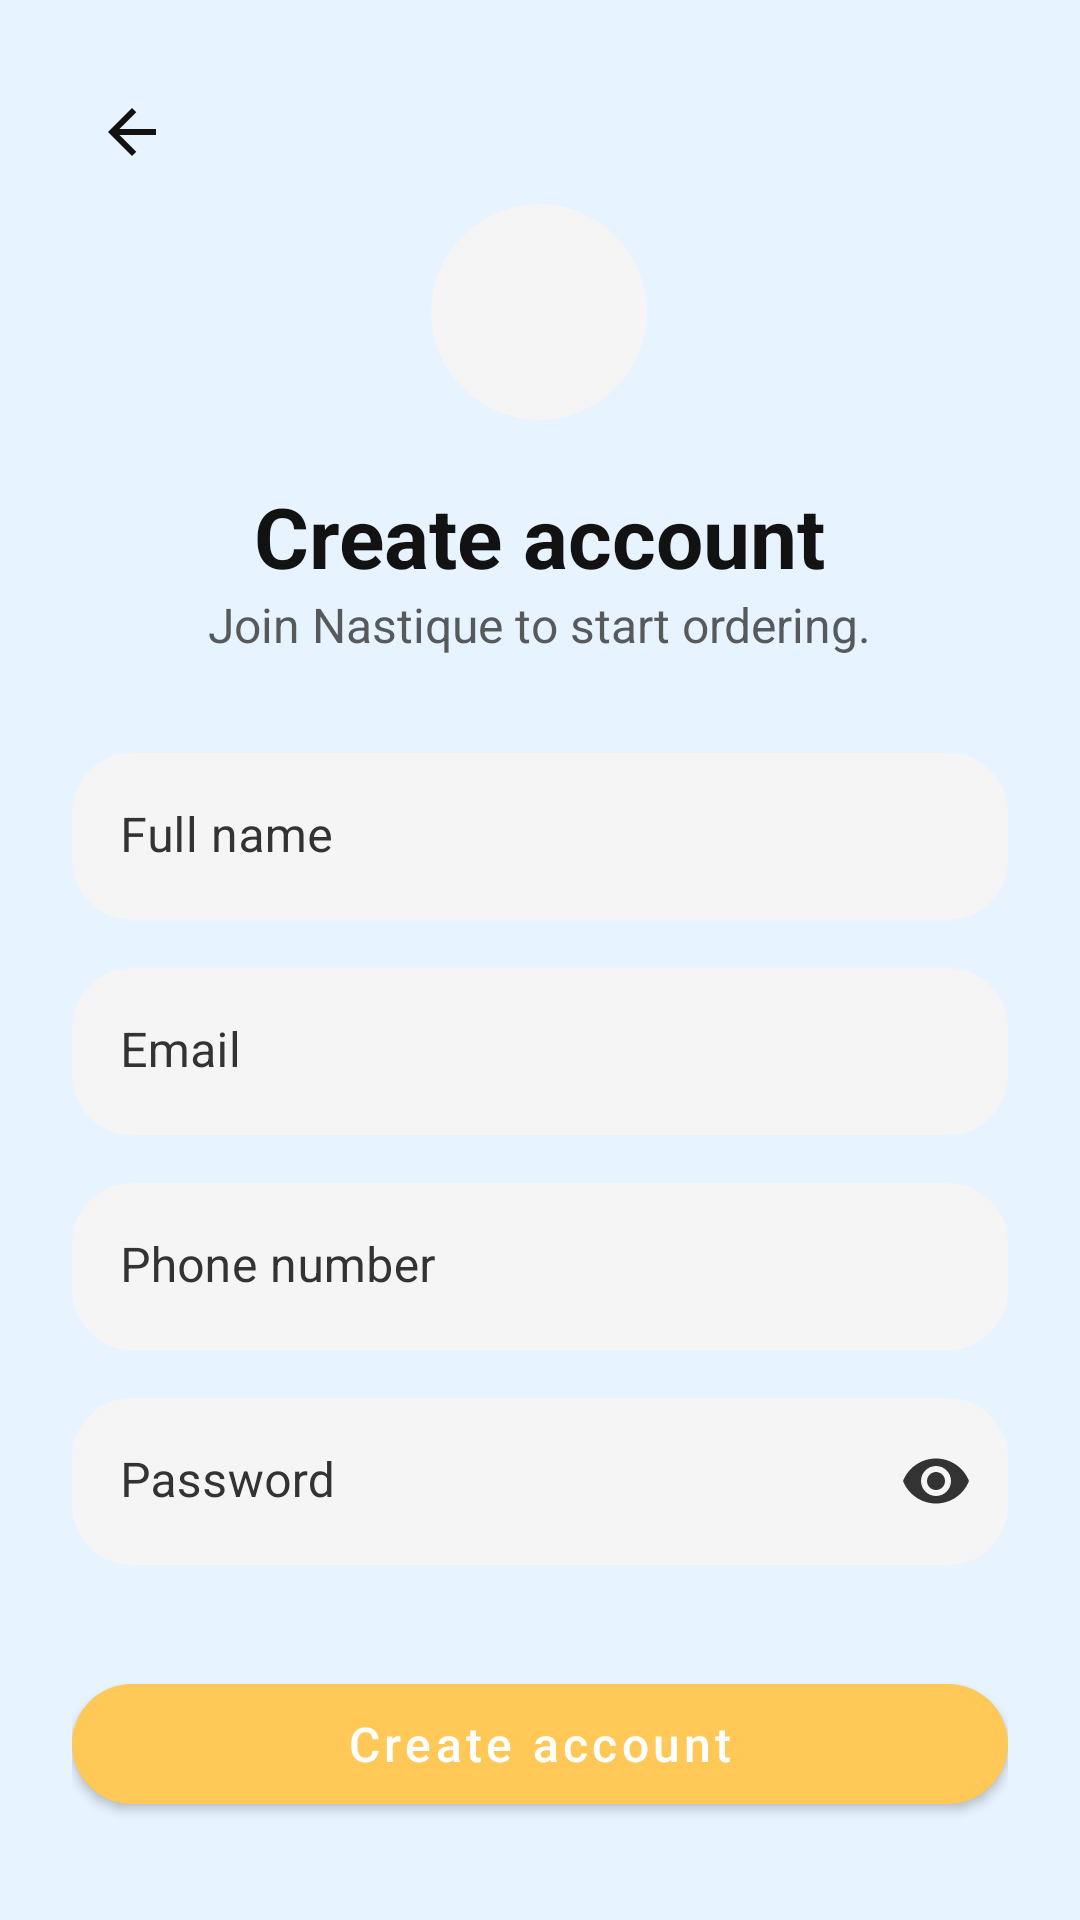

Where to tap for icons on this 1080px x 1920px app screen, as (x,y):
arrow back: (132,132)
